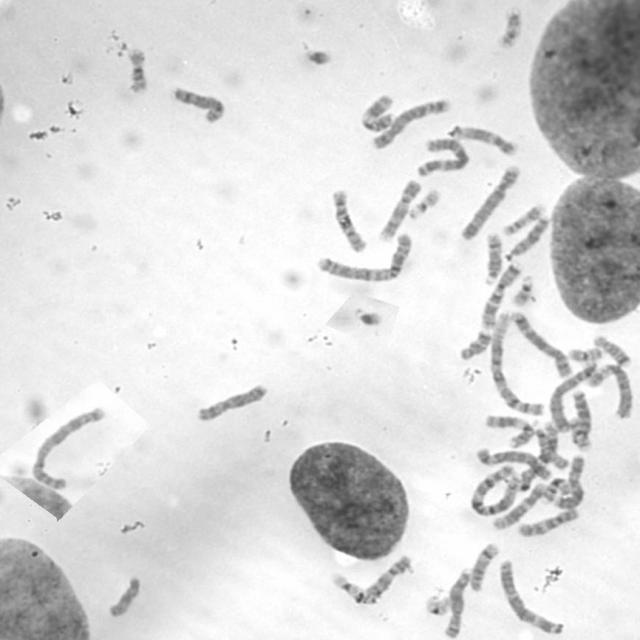A1: (488, 310, 547, 418), (468, 463, 521, 518)
A2: (28, 408, 108, 491), (314, 230, 412, 282)
A3: (499, 556, 565, 636), (414, 135, 469, 179)
B4: (458, 164, 522, 242), (545, 359, 598, 435)
B5: (511, 310, 574, 379), (370, 96, 452, 149)
C10: (330, 188, 368, 254), (515, 507, 580, 540)
C11: (483, 412, 535, 449), (358, 91, 398, 133)
C12: (490, 482, 546, 532), (447, 124, 520, 156)
C6: (475, 445, 554, 482), (586, 362, 633, 422)
C7: (516, 421, 560, 492), (480, 261, 524, 331)
C8: (441, 566, 472, 639), (171, 84, 226, 124)
C9: (378, 178, 423, 242), (363, 554, 412, 602)
D13: (503, 213, 549, 263), (568, 388, 593, 446)
D14: (469, 540, 499, 592), (484, 230, 504, 286)
D15: (532, 418, 571, 471), (104, 572, 142, 618)
E16: (126, 46, 150, 96), (540, 477, 572, 504)
E17: (502, 202, 544, 236), (498, 5, 528, 51)
E18: (594, 333, 633, 369), (458, 330, 492, 362)
F19: (422, 585, 454, 620), (329, 571, 363, 603)
F20: (568, 416, 593, 452), (567, 347, 604, 361)
G21: (353, 306, 386, 328), (302, 50, 331, 66)
G22: (406, 187, 442, 220), (511, 273, 532, 308)
X: (194, 381, 269, 423), (550, 455, 586, 510)
